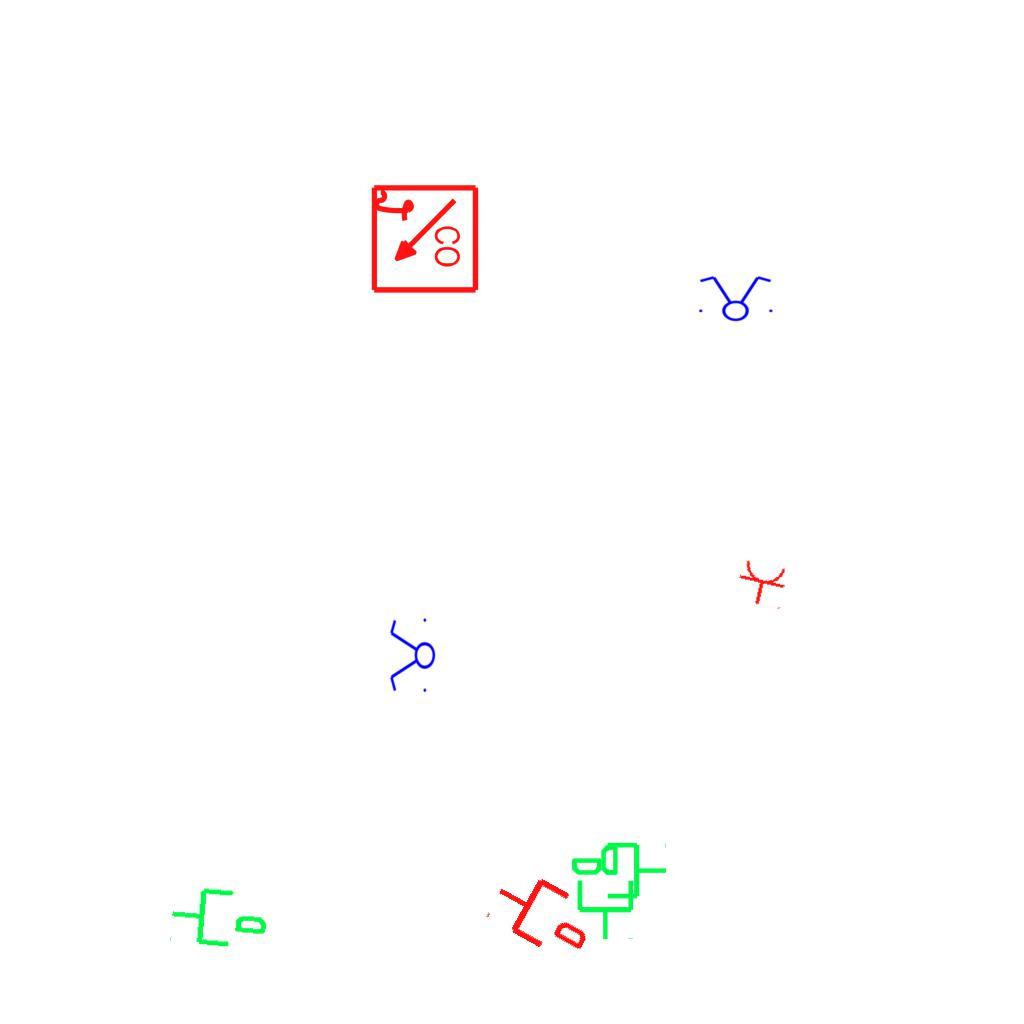Datenanschluss_einfach: (482, 859, 603, 969), (166, 877, 273, 955), (569, 838, 669, 907), (569, 842, 638, 942)
ROA_Rauchmelder_optisch_mit_Signalgeber_(Sockelsirene): (367, 183, 480, 296)
Schukosteckdose_einfach: (733, 557, 792, 611)
Serienschalter: (693, 274, 777, 322), (388, 614, 436, 698)
